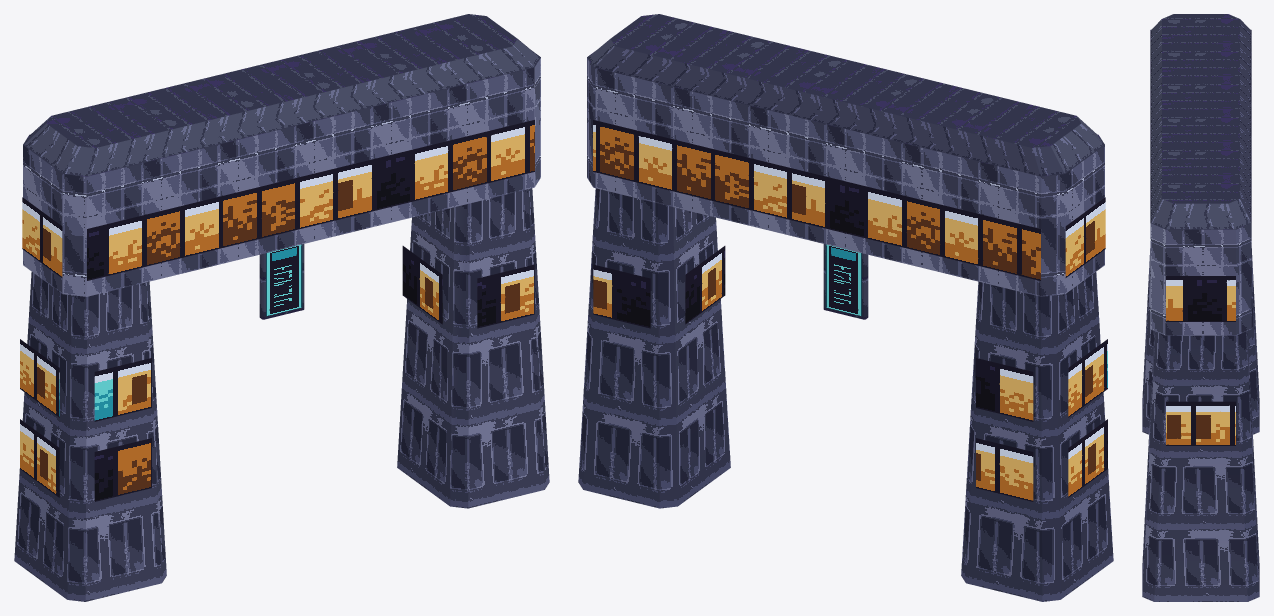
Rendered from cytower.arch.glb.
3 renders of one model, left to right at view 1: azimuth 30°, elevation 25°; view 2: azimuth 150°, elevation 25°; view 3: azimuth 270°, elevation 25°, orthographic. The views are drawn at different scales.
Visible parts, largest first — view 1: kit_arch, kit_card_windows; view 2: kit_arch, kit_card_windows; view 3: kit_arch, kit_card_windows.
Boxes of the visible parts, x1,y1,x2,y2 form: kit_arch: [14, 14, 549, 601]; kit_card_windows: [20, 120, 534, 501]; kit_arch: [578, 14, 1113, 601]; kit_card_windows: [593, 120, 1107, 501]; kit_arch: [1142, 14, 1259, 601]; kit_card_windows: [1166, 276, 1235, 445].
Size of the model in its own units: 25.3 by 22 by 6.
9 materials, 9 textured.
